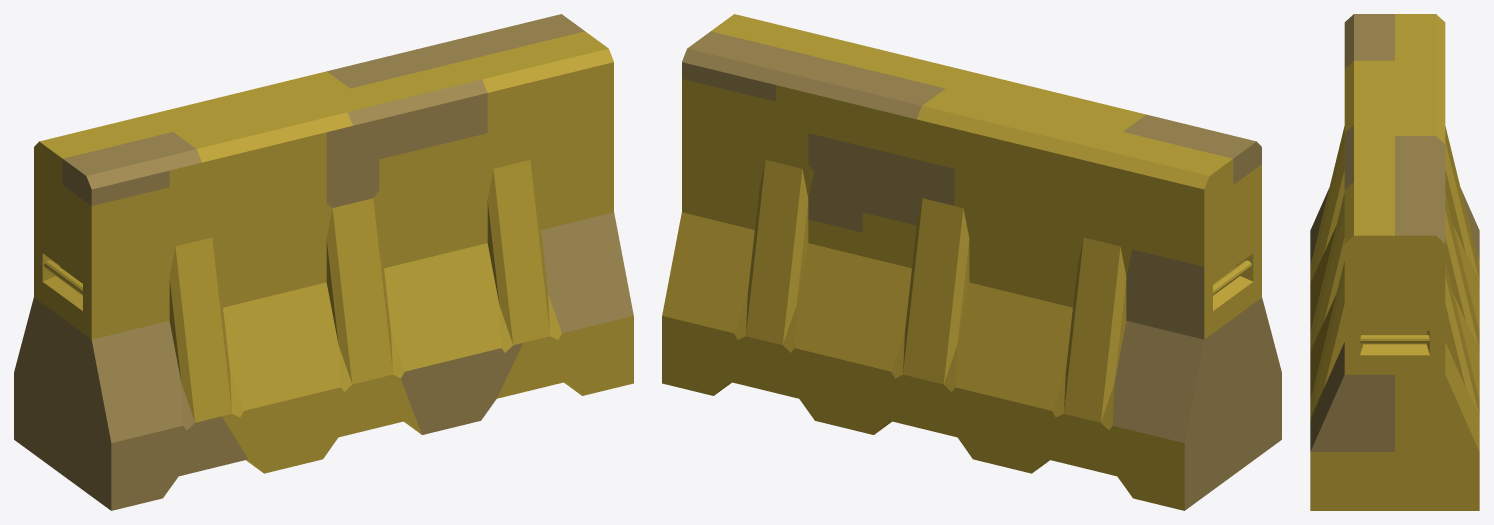
Rendered from prop_plasticbarrier.glb.
The picture shows the model from 3 angles, left to right: view 1: azimuth 30°, elevation 25°; view 2: azimuth 150°, elevation 25°; view 3: azimuth 270°, elevation 25°; orthographic projection. The views are drawn at different scales.
Parts seen in each view (by area): view 1: PlasticBarrier; view 2: PlasticBarrier; view 3: PlasticBarrier.
Boxes of the visible parts, x1,y1,x2,y2 form: PlasticBarrier: [14, 14, 633, 510]; PlasticBarrier: [662, 14, 1281, 510]; PlasticBarrier: [1310, 14, 1479, 510].
Bounding box in the file's own units: 1.04 × 0.5995 × 0.3339.
1 material, 1 textured.
